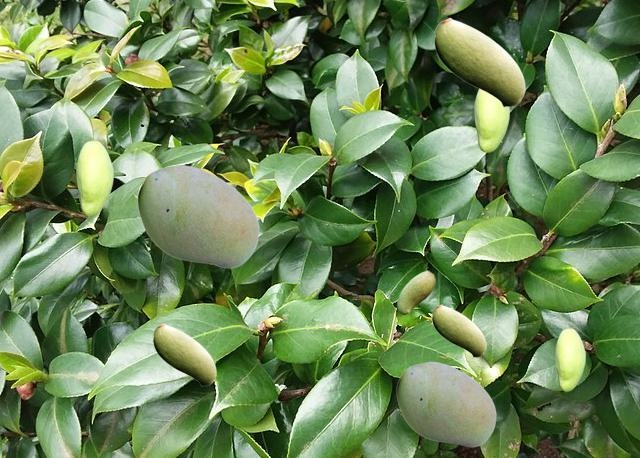green_mango: (137, 164, 258, 267), (396, 361, 495, 446), (434, 17, 524, 106), (153, 323, 215, 385), (432, 304, 485, 356), (76, 140, 112, 215), (474, 89, 508, 151), (555, 328, 584, 390), (397, 270, 434, 313)
